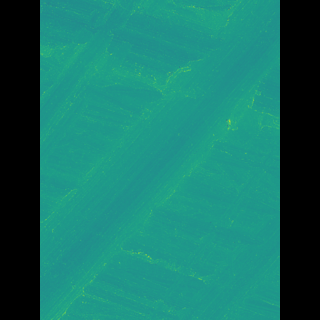Loch: (69, 0, 251, 319), (70, 0, 167, 167), (168, 204, 249, 319)
